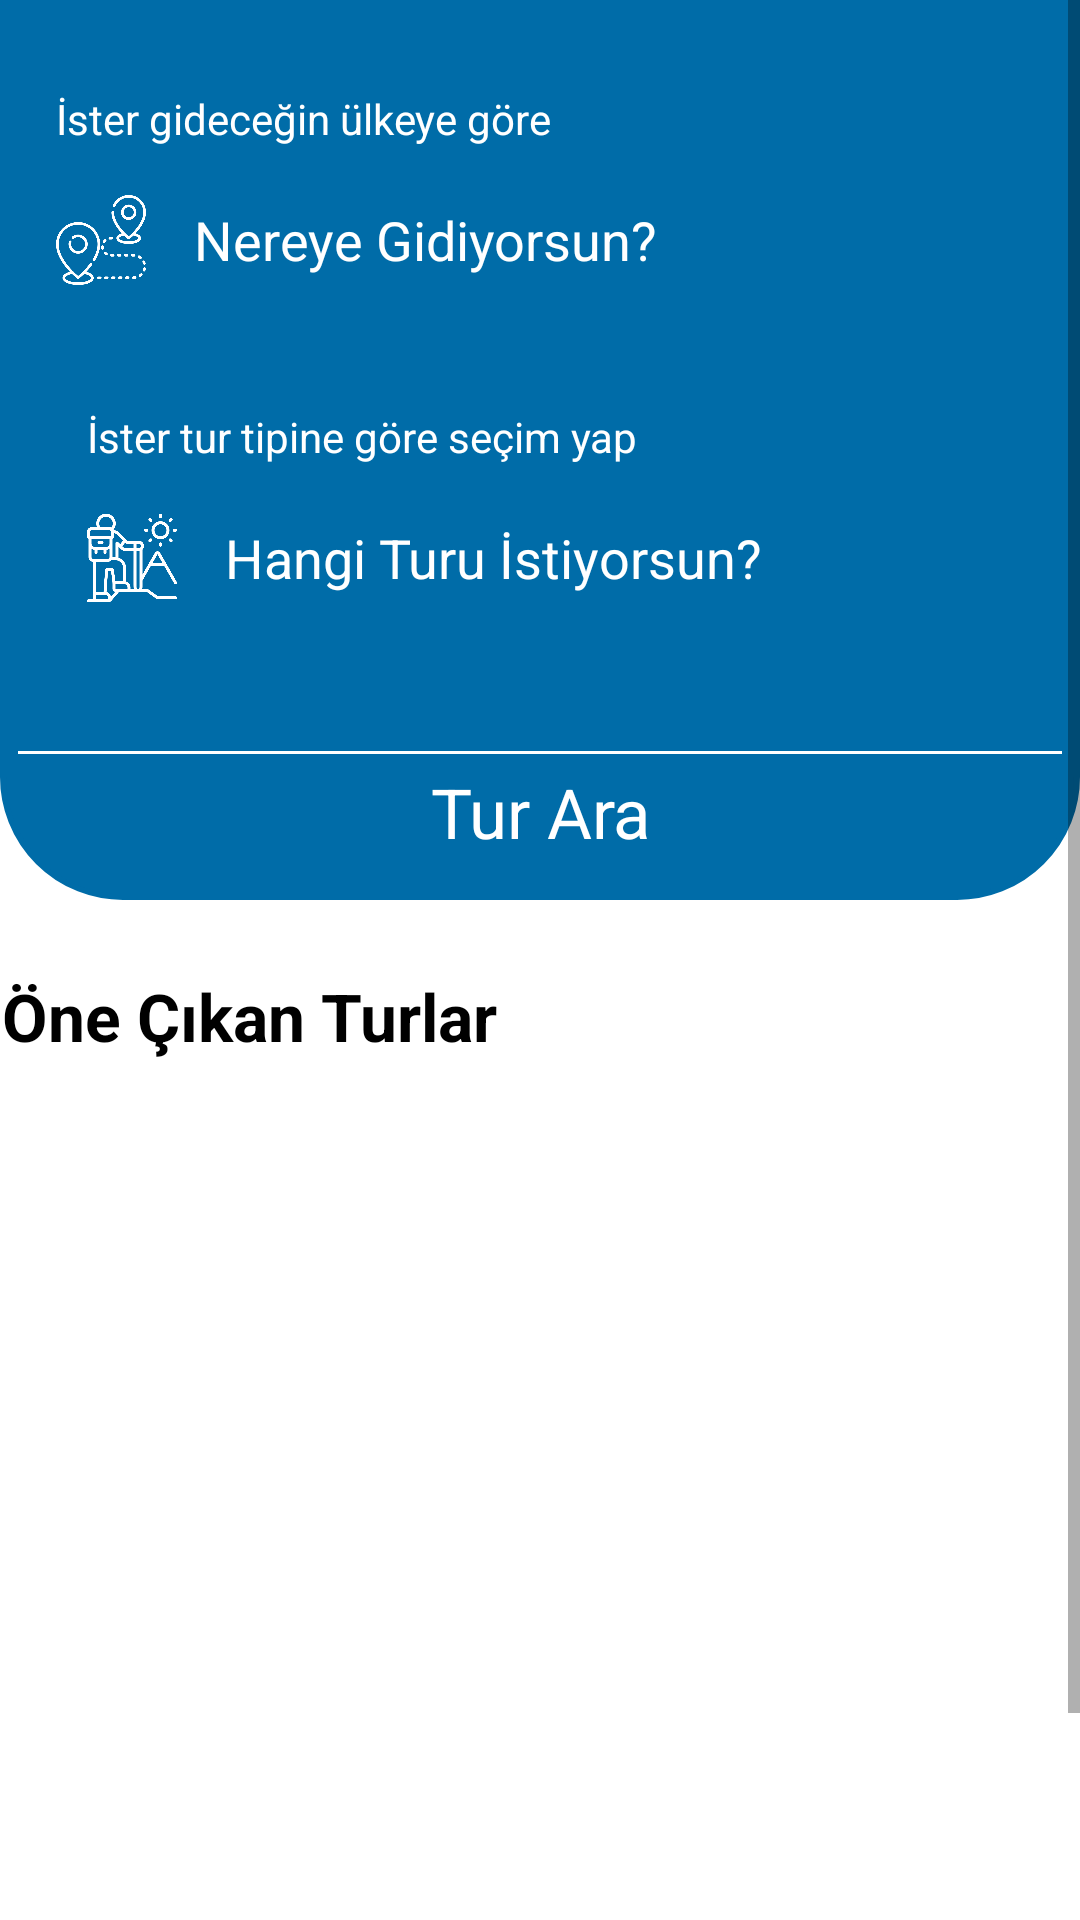

Locate icon controls on the screen. Image size 1080px x 1920px, boxes as region(x1, y1, x2, y2).
destination: region(56, 195, 146, 285)
hiking: region(87, 514, 177, 602)
